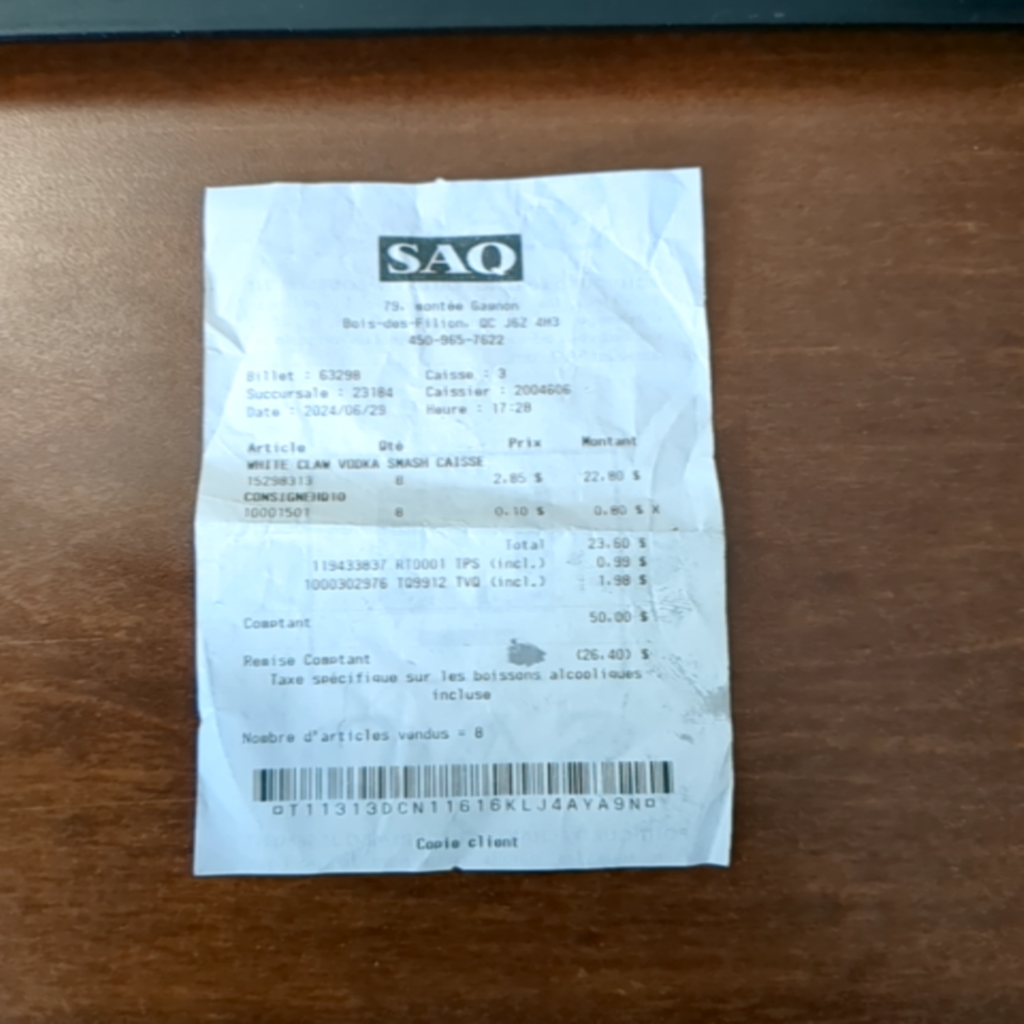recipt: (195, 164, 733, 877)
